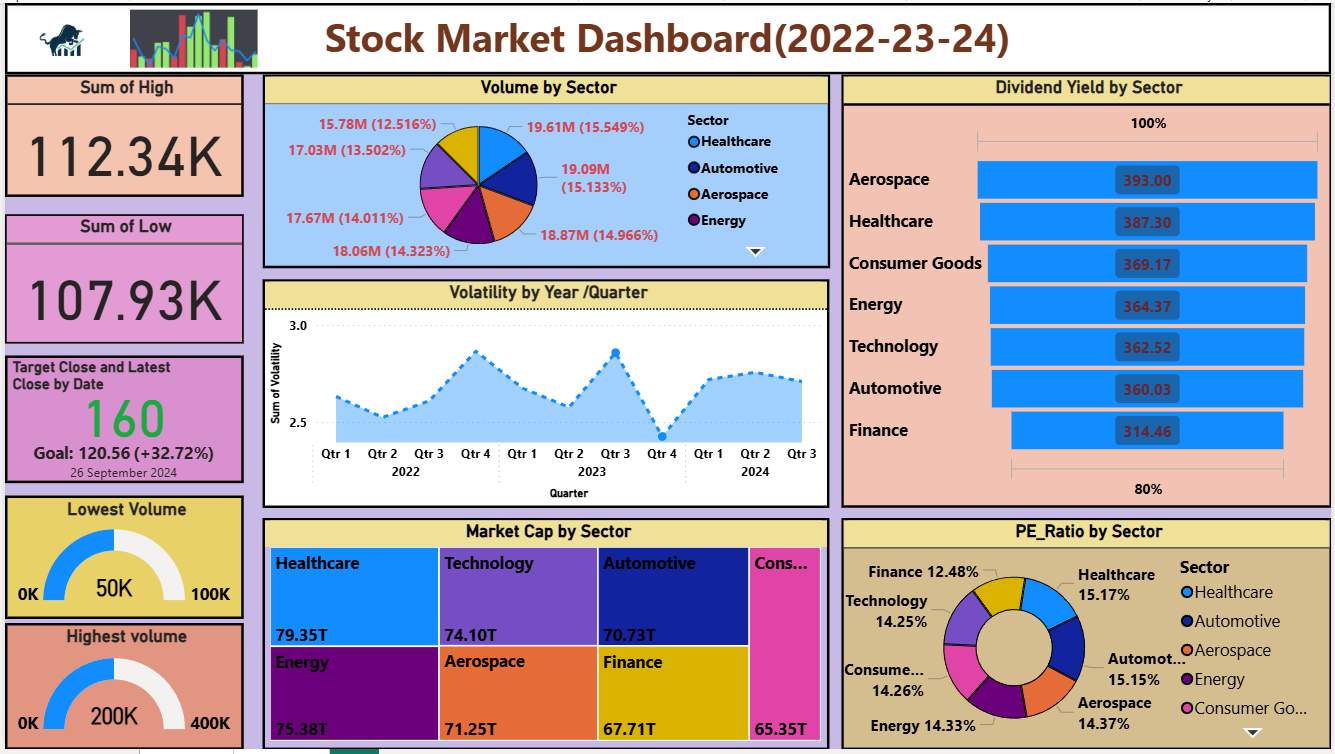

The page's visual inventory and layout, read from the dashboard file:
{"tool":"powerbi","page":{"name":"Page 1","canvas":[1280,720],"ordinal":0},"visuals":[{"type":"pieChart","title":"Volume by Sector","fields":{"Y":["Sum(synthetic_stock_data.Volume)"],"Category":["synthetic_stock_data.Sector"]},"box":[248.5,68.8,547.7,187],"z":0},{"type":"card","title":"Sum of High","fields":{"Values":["Sum(synthetic_stock_data.High)"]},"box":[0,68.6,230.5,118],"z":1000},{"type":"card","title":"Sum of Low","fields":{"Values":["Sum(synthetic_stock_data.Low)"]},"box":[0,204.5,230.5,124.9],"z":2000},{"type":"gauge","fields":{"Y":["synthetic_stock_data.Lowest Volume"]},"box":[0,474.8,230.5,119.4],"z":3000},{"type":"gauge","fields":{"Y":["synthetic_stock_data.Highest volume"]},"box":[0,598.3,230.5,122.1],"z":4000},{"type":"treemap","title":"Market Cap by Sector","fields":{"Group":["synthetic_stock_data.Sector"],"Values":["Sum(synthetic_stock_data.Market_Cap)"]},"box":[248.4,496.7,547.5,223.7],"z":5000},{"type":"kpi","fields":{"Indicator":["synthetic_stock_data.Target Close"],"Goal":["synthetic_stock_data.Latest Close"],"TrendLine":["synthetic_stock_data.Date"]},"box":[0,340.3,230.5,123.5],"z":6000},{"type":"donutChart","title":"PE_Ratio by Sector","fields":{"Y":["Sum(synthetic_stock_data.PE_Ratio)"],"Category":["synthetic_stock_data.Sector"]},"box":[806.9,496.7,473.4,223.7],"z":7000},{"type":"areaChart","title":"Volatility by Year /Quarter","fields":{"Category":["synthetic_stock_data.Date.Variation.Date Hierarchy.Year","synthetic_stock_data.Date.Variation.Date Hierarchy.Quarter","synthetic_stock_data.Date.Variation.Date Hierarchy.Month","synthetic_stock_data.Date.Variation.Date Hierarchy.Day"],"Y":["Sum(synthetic_stock_data.Volatility)"]},"box":[248.4,266.2,547.5,220.9],"z":8000},{"type":"funnel","title":"Dividend Yield by Sector","fields":{"Category":["synthetic_stock_data.Sector"],"Y":["Sum(synthetic_stock_data.Dividend_Yield)"]},"box":[806.9,68.6,473.4,418.5],"z":9000},{"type":"textbox","box":[0,0,1280.3,68.6],"z":10000},{"type":"image","box":[0,0,115.3,68.6],"z":11000},{"type":"image","box":[115.3,0,133.1,68.6],"z":12000}]}

Visuals, with their boxes in screenshot pixels (x1, y1, x2, y2), scaled from the page's 1280x720 canvas onto the 1335x754 screenshot:
"Volume by Sector" pieChart: <box>259,72,830,268</box>
"Sum of High" card: <box>0,72,240,195</box>
"Sum of Low" card: <box>0,214,240,345</box>
gauge - synthetic_stock_data.Lowest Volume: <box>0,497,240,622</box>
gauge - synthetic_stock_data.Highest volume: <box>0,627,240,753</box>
"Market Cap by Sector" treemap: <box>259,520,830,753</box>
kpi - synthetic_stock_data.Target Close x synthetic_stock_data.Latest Close: <box>0,356,240,486</box>
"PE_Ratio by Sector" donutChart: <box>842,520,1334,753</box>
"Volatility by Year /Quarter" areaChart: <box>259,279,830,510</box>
"Dividend Yield by Sector" funnel: <box>842,72,1334,510</box>
textbox: <box>0,0,1334,72</box>
image: <box>0,0,120,72</box>
image: <box>120,0,259,72</box>
